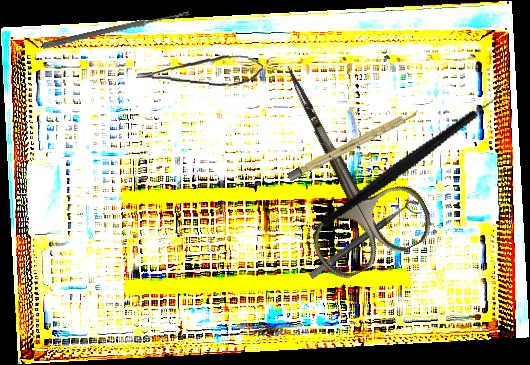Chopper: (298, 80, 524, 228)
Fixation Ring: (308, 196, 425, 288)
Iris Scissors: (236, 38, 440, 287)
Micro Scissor: (136, 48, 264, 90)
Scalpel Handle: (286, 107, 421, 182)
Surgical Spoon: (42, 9, 190, 50)
